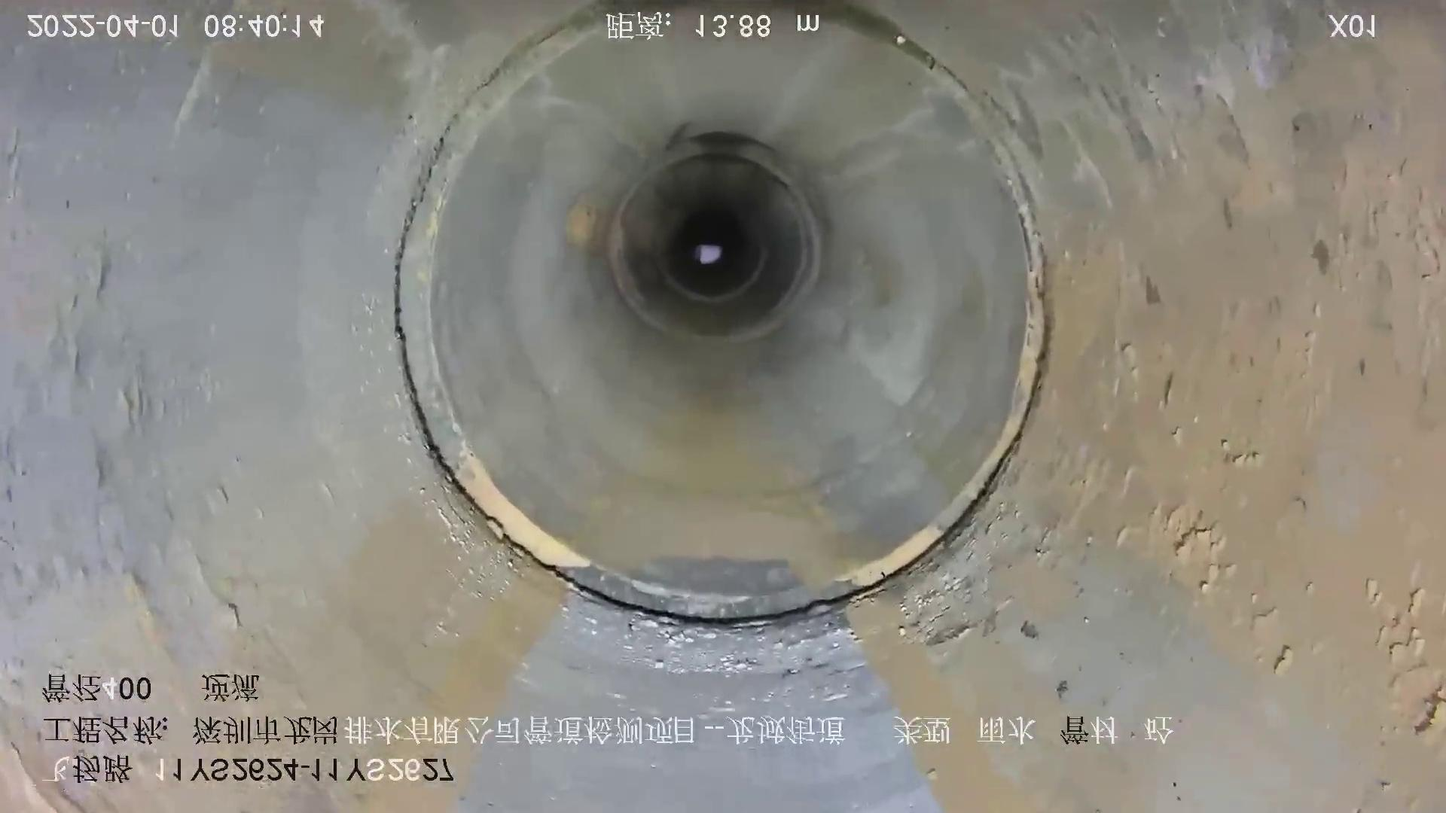CKTJ: (396, 11, 1048, 631), (838, 14, 990, 124)
